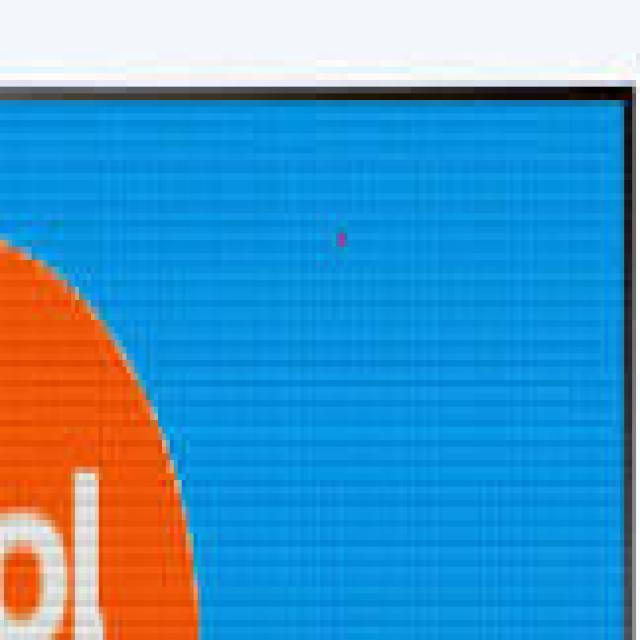dead_pixel: (335, 225, 349, 255)
